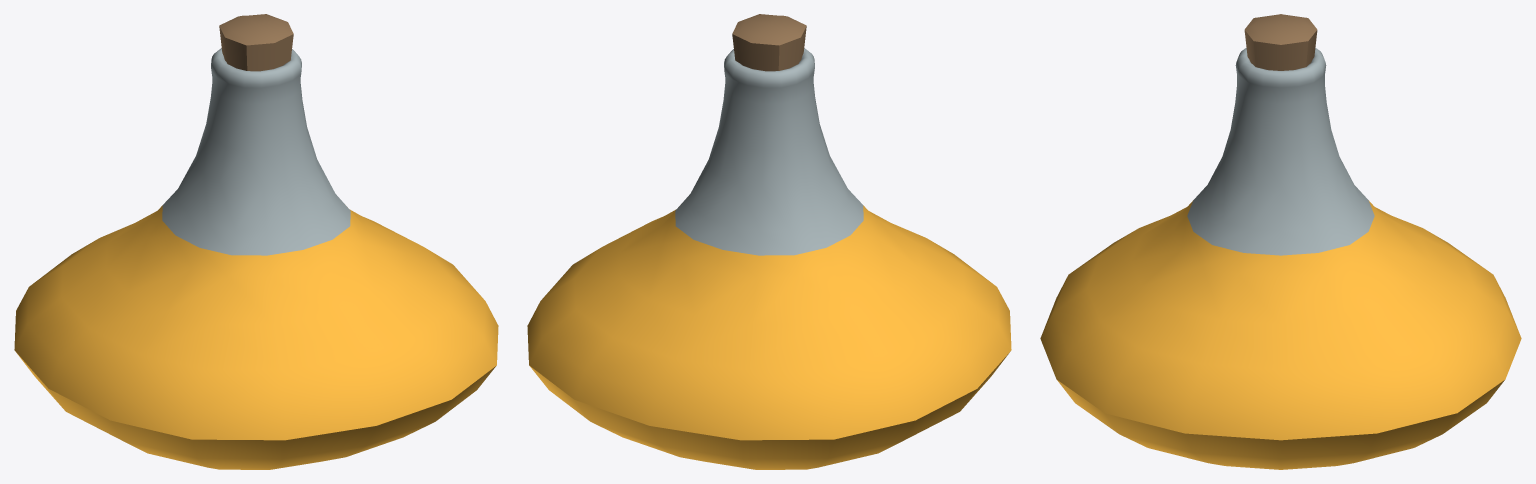
File: potion_amber.glb
The picture shows the model from 3 angles, left to right: view 1: azimuth 30°, elevation 25°; view 2: azimuth 150°, elevation 25°; view 3: azimuth 270°, elevation 25°; orthographic projection.
Parts seen in each view (by area): view 1: potion_amber; view 2: potion_amber; view 3: potion_amber.
Part boxes in pixels (x1,y1,x2,y2): potion_amber: (14, 14, 498, 469); potion_amber: (527, 14, 1011, 469); potion_amber: (1040, 14, 1521, 469).
Bounding box in the file's own units: 0.2063 × 0.2 × 0.2063.
